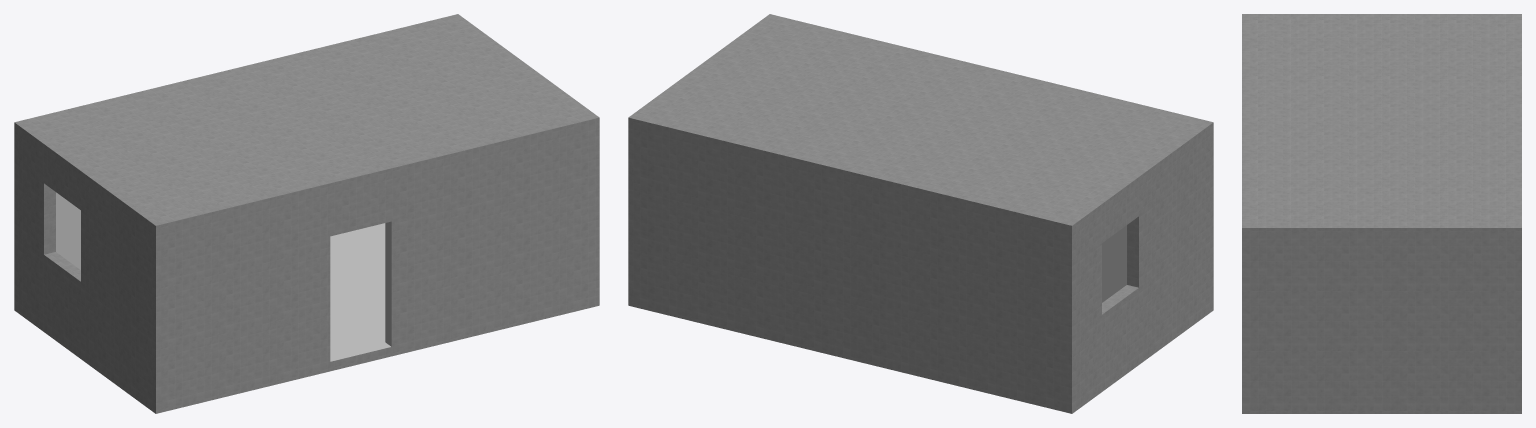
File: Bathroom03.FBX
3 views of the same model, side by side, from view 1: azimuth 30°, elevation 25°; view 2: azimuth 150°, elevation 25°; view 3: azimuth 270°, elevation 25° (orthographic).
Parts seen in each view (by area): view 1: Bathroom03; view 2: Bathroom03; view 3: Bathroom03.
Boxes of the visible parts, box(x1,y1,x2,y2) form: Bathroom03: box(14, 14, 599, 413); Bathroom03: box(628, 14, 1213, 413); Bathroom03: box(1242, 14, 1521, 413).
Size of the model in its own units: 384 by 156 by 212.
